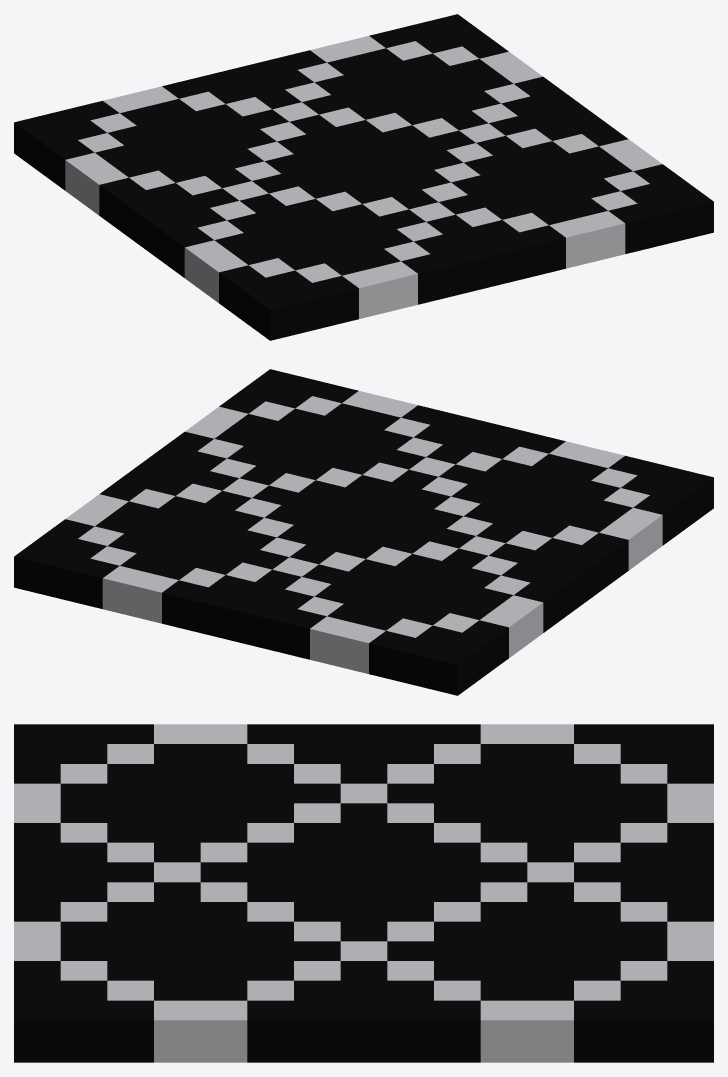
File: dungeon_d_a_ground_d_a.obj
3 views of the same model, one above another, from view 1: azimuth 30°, elevation 25°; view 2: azimuth 150°, elevation 25°; view 3: azimuth 270°, elevation 25° (orthographic). The views are drawn at different scales.
Size of the model in its own units: 1.5 by 0.1 by 1.5.
Materials: 1 (1 with a texture image).
